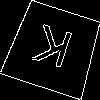K: (28, 24, 76, 78)
